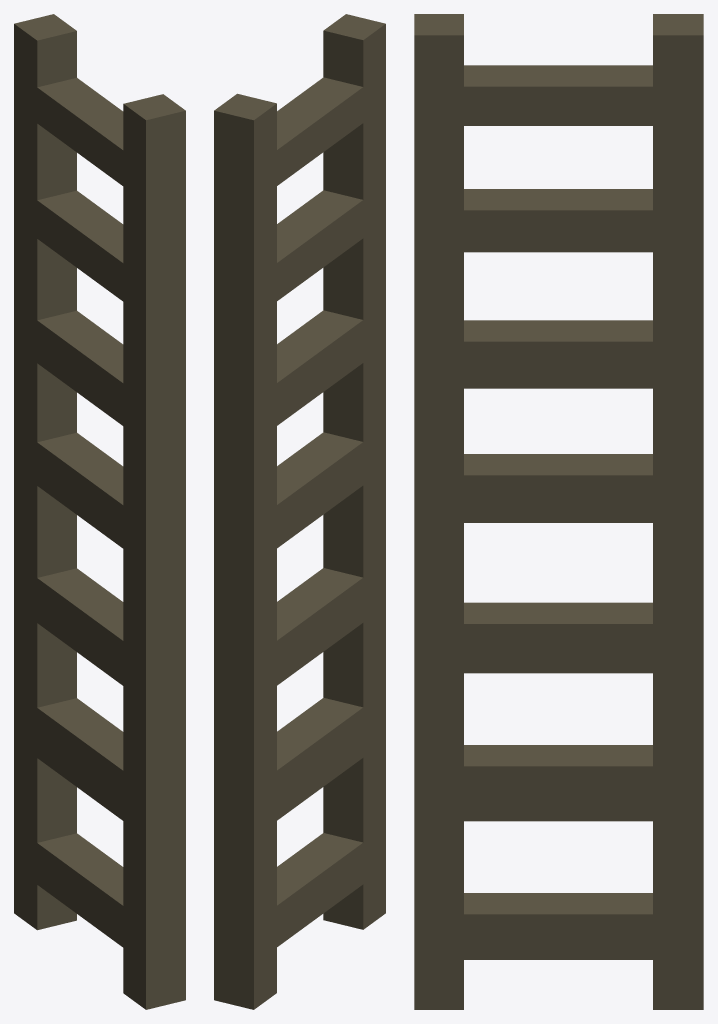
Rendered from Ladder04.fbx.
The picture shows the model from 3 angles, left to right: view 1: azimuth 30°, elevation 25°; view 2: azimuth 150°, elevation 25°; view 3: azimuth 270°, elevation 25°; orthographic projection. The views are drawn at different scales.
Parts seen in each view (by area): view 1: Ladder04; view 2: Ladder04; view 3: Ladder04.
Part boxes in pixels (left/top/right/bottom): Ladder04: left=14, top=14, right=185, bottom=1009; Ladder04: left=214, top=14, right=385, bottom=1009; Ladder04: left=414, top=14, right=703, bottom=1009.
Size of the model in its own units: 20.83 by 445 by 120.
